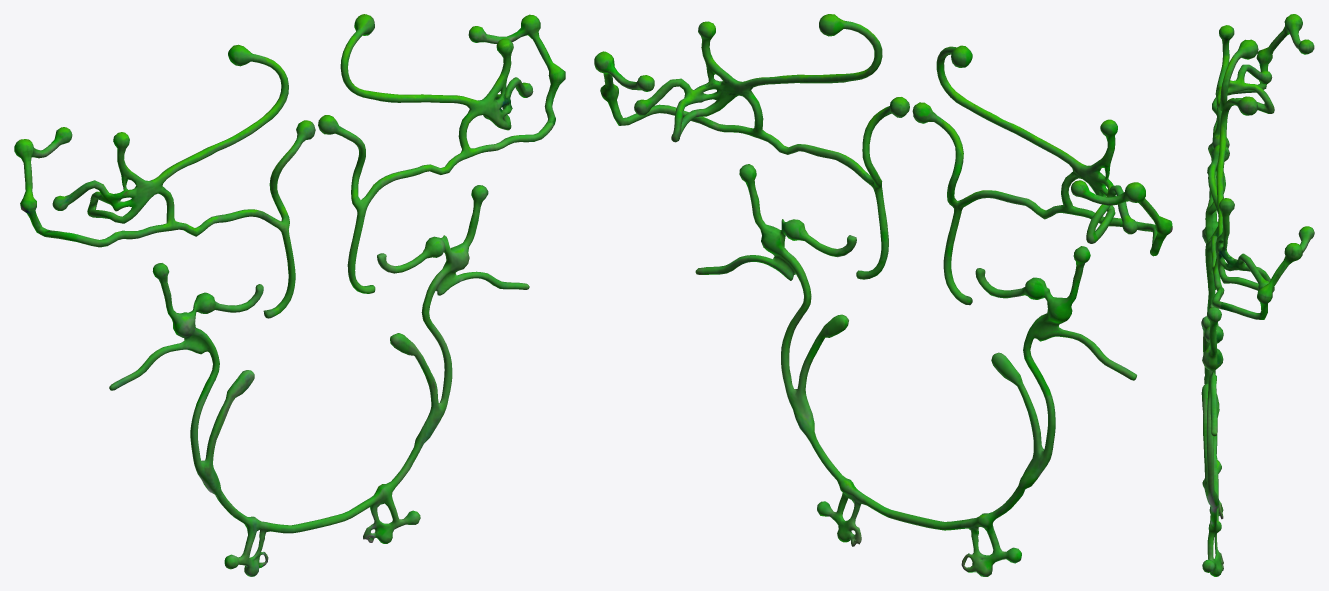
Rendered from headpiece_antenna.glb.
3 views of the same model, side by side, from view 1: azimuth 30°, elevation 25°; view 2: azimuth 150°, elevation 25°; view 3: azimuth 270°, elevation 25° (orthographic). The views are drawn at different scales.
Parts seen in each view (by area): view 1: file1; view 2: file1; view 3: file1.
Part boxes in pixels (x1,y1,x2,y2): file1: (14, 14, 565, 576); file1: (594, 14, 1172, 576); file1: (1201, 14, 1314, 576).
Bounding box in the file's own units: 0.2752 × 0.25 × 0.0537.
1 material, 1 textured.
